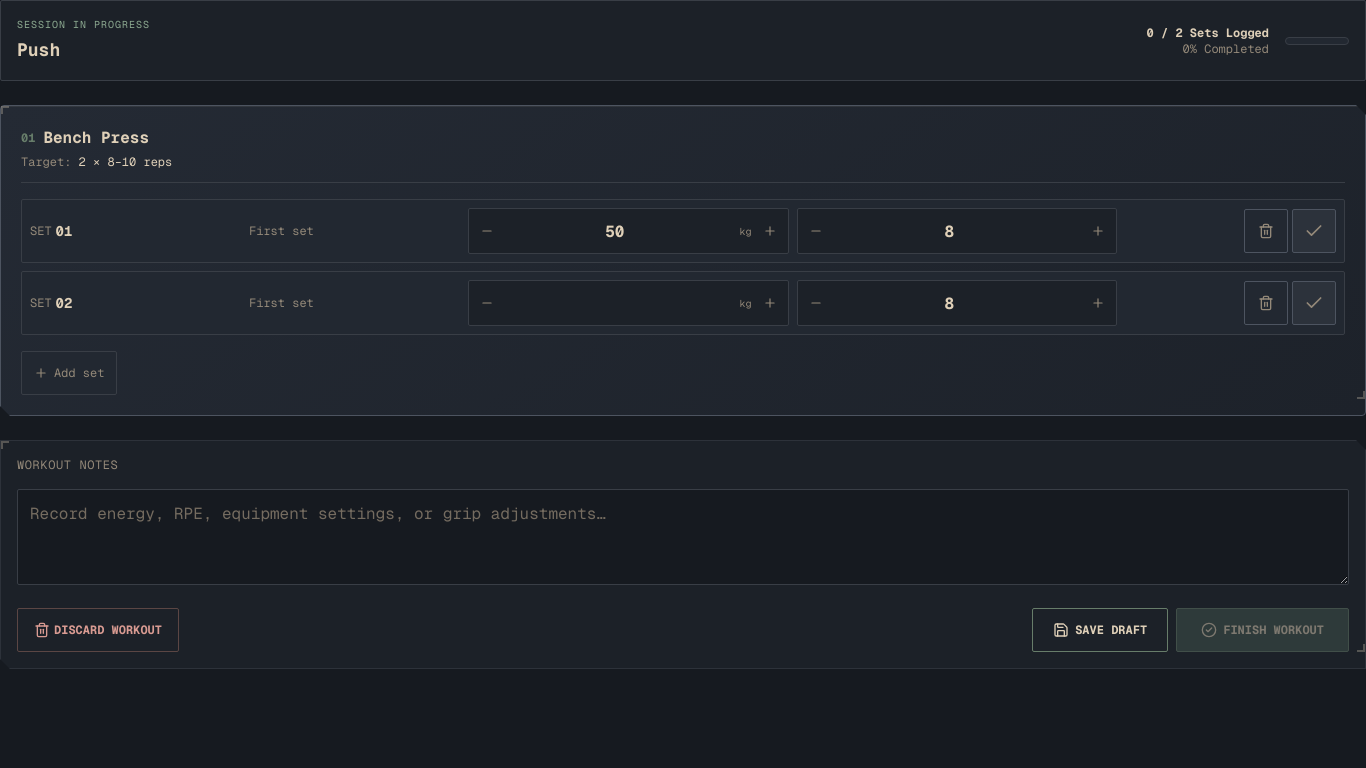
persistent workout logging › preserves edits and exposes recovery when a stale save conflicts
In the text box labelled "Workout notes": [683, 537] box 17,489 -> 1349,585, type "Keep this"
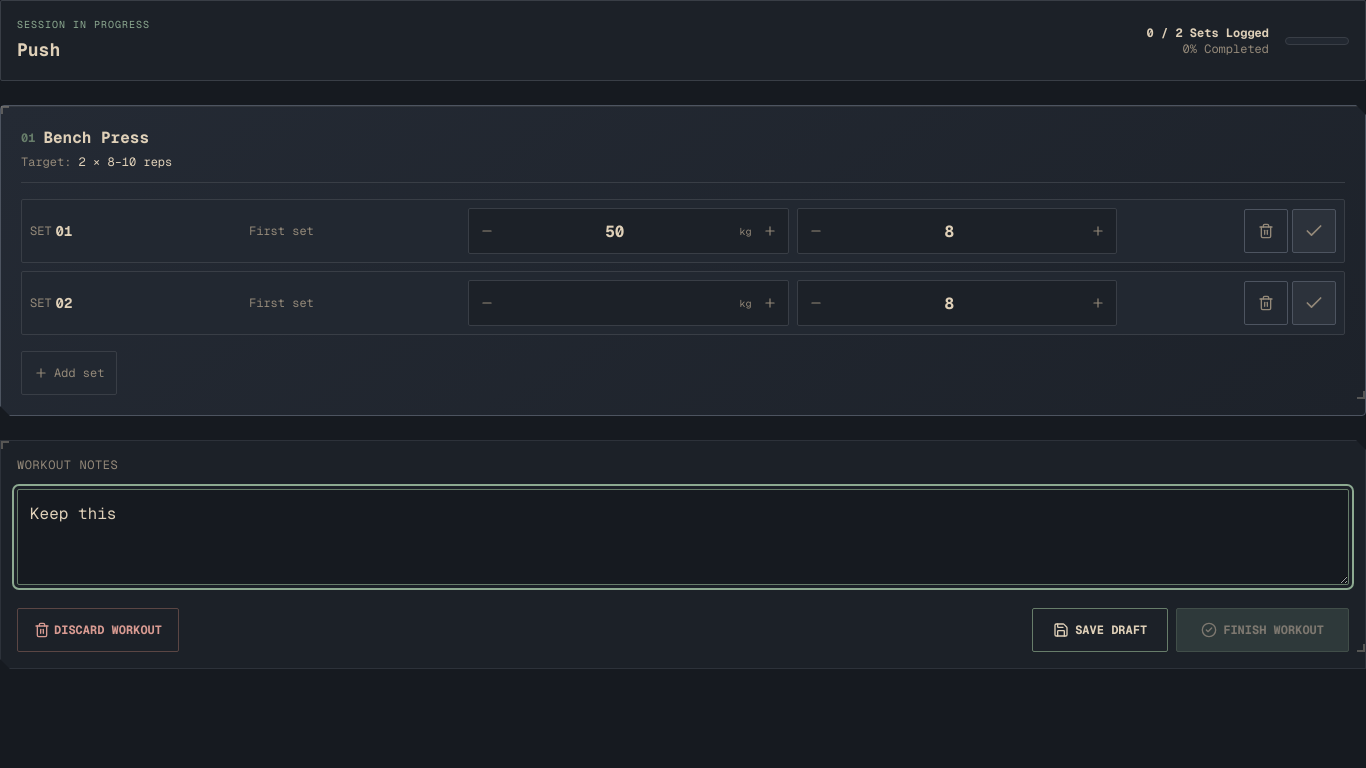
Click the button "Save draft": [1100, 630] box 1032,608 -> 1168,652
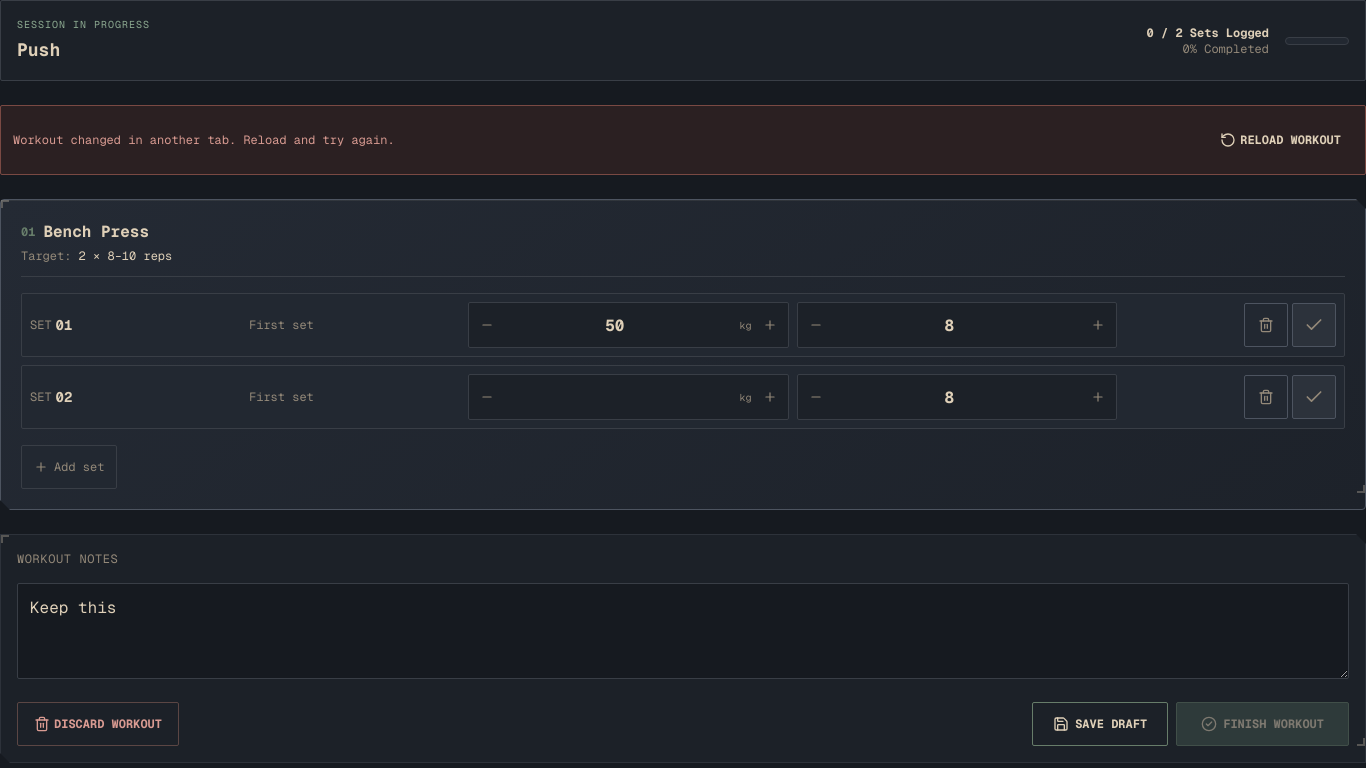
Expected: the message shows "Workout changed in another tab", 13,132 -> 395,148
Expected: the button "Reload workout" is shown, 1208,118 -> 1353,162
